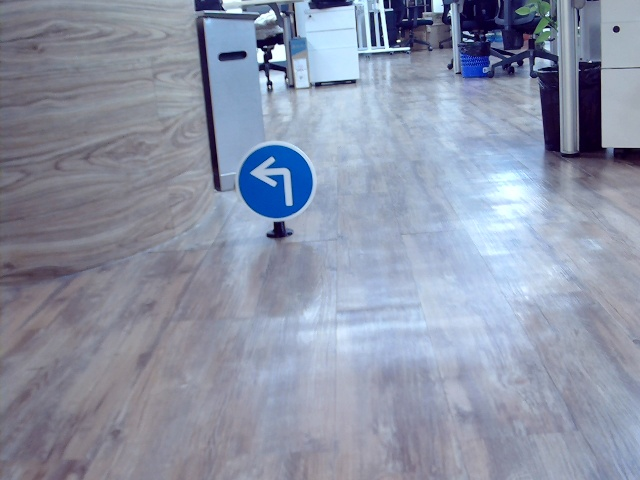turn_left: (251, 155, 296, 206)
